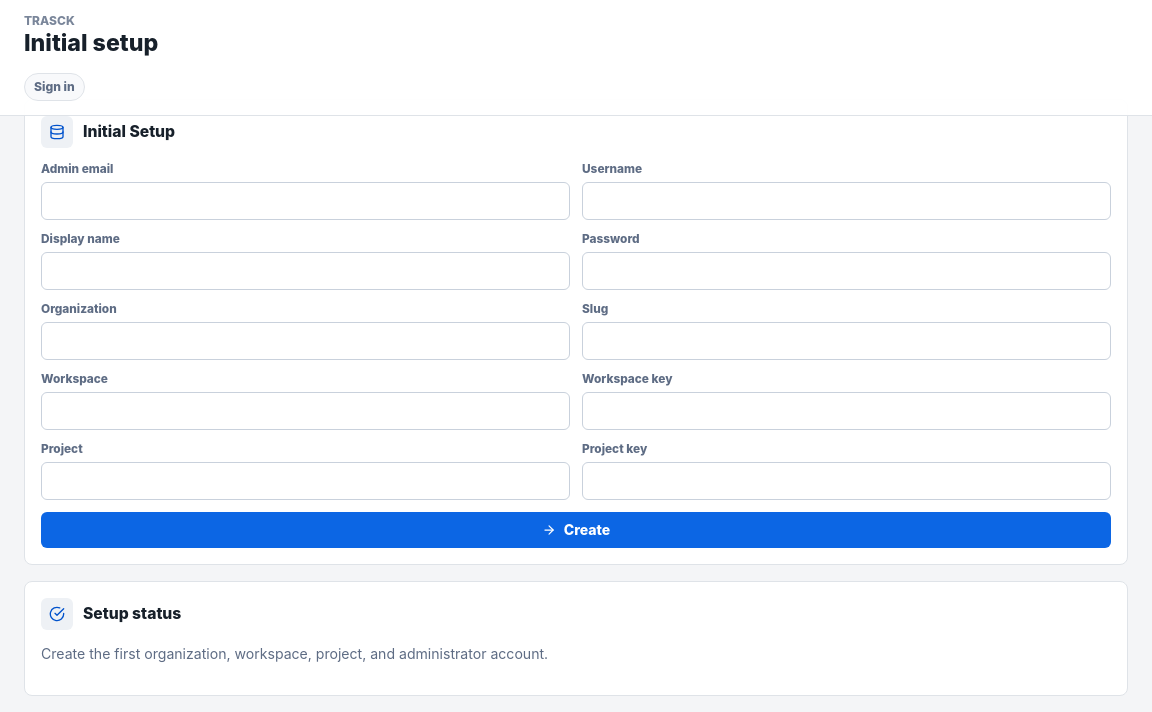
Test: App › navigates to the homepage after successful first-run setup
(page scrolled)
Step 1. Click the button "Create" → x=576, y=530, box [41,512,1111,548]
(page scrolled)
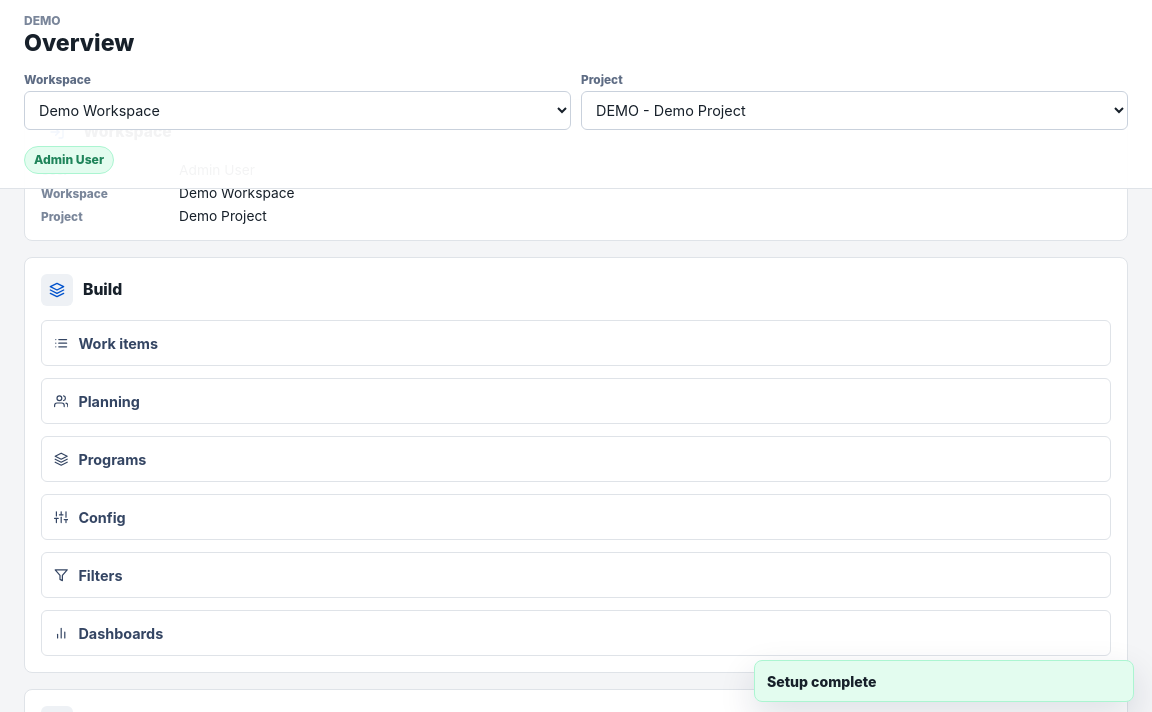
Expected: the heading "Workspace" is shown, [83,123,172,142]
